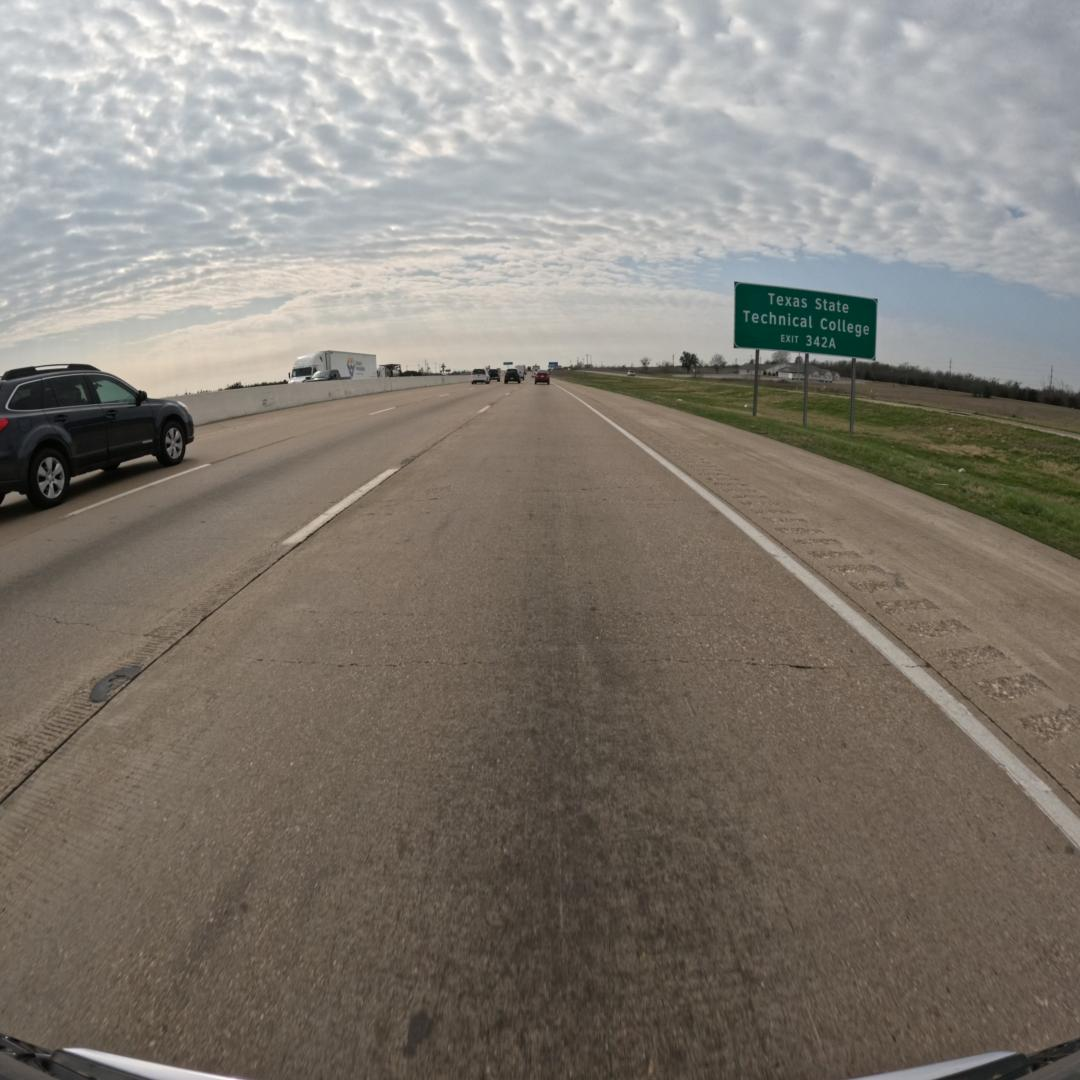lane0: (0, 385, 1080, 1077)
lane1: (0, 387, 506, 803)
